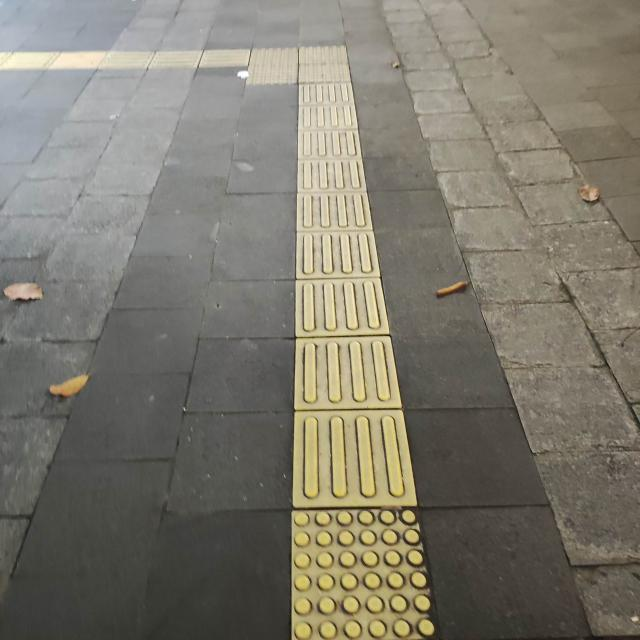kiri: (158, 35, 384, 104)
